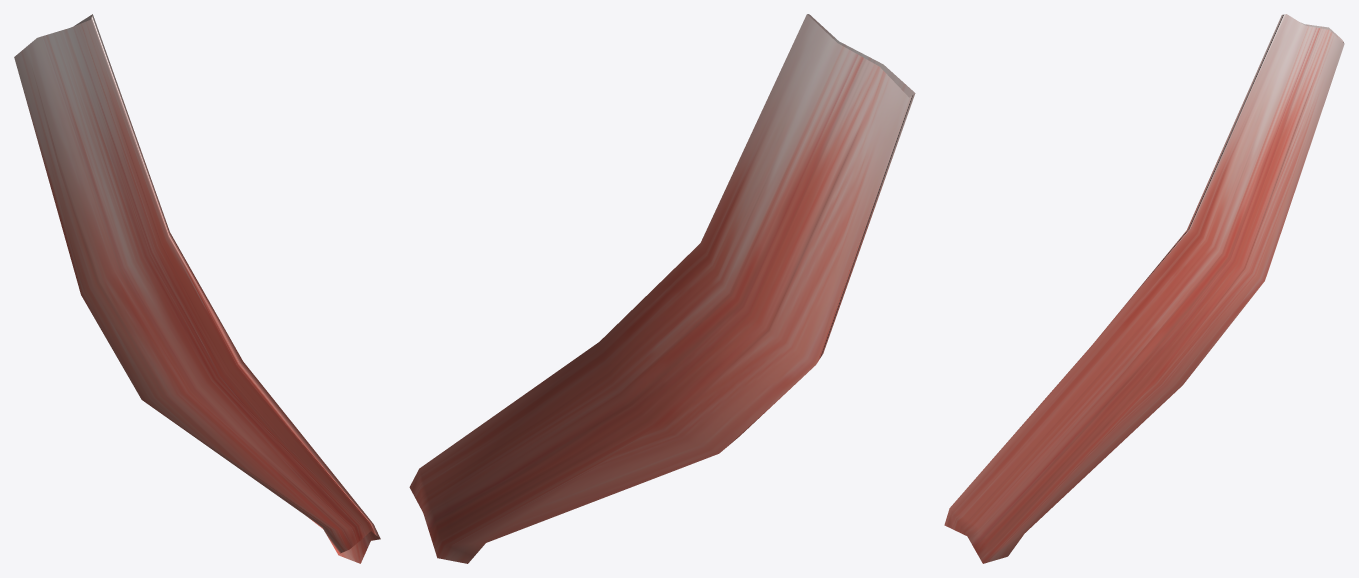
The model's file is Obliqus_Capitis_Superior_Muscle_Left.obj.
The picture shows the model from 3 angles, left to right: view 1: azimuth 30°, elevation 25°; view 2: azimuth 210°, elevation 25°; view 3: azimuth 270°, elevation 25°; orthographic projection. The views are drawn at different scales.
Visible parts, largest first — view 1: Thyrohyoid_Muscle_Right:Thyrohyoid_Muscle_Right_Mesh Thyrohyoid_; view 2: Thyrohyoid_Muscle_Right:Thyrohyoid_Muscle_Right_Mesh Thyrohyoid_; view 3: Thyrohyoid_Muscle_Right:Thyrohyoid_Muscle_Right_Mesh Thyrohyoid_.
Boxes of the visible parts, x1,y1,x2,y2 form: Thyrohyoid_Muscle_Right:Thyrohyoid_Muscle_Right_Mesh Thyrohyoid_: (14, 14, 380, 563); Thyrohyoid_Muscle_Right:Thyrohyoid_Muscle_Right_Mesh Thyrohyoid_: (409, 14, 915, 563); Thyrohyoid_Muscle_Right:Thyrohyoid_Muscle_Right_Mesh Thyrohyoid_: (944, 14, 1344, 563).
Bounding box in the file's own units: 0.2046 × 0.5258 × 0.3902.
